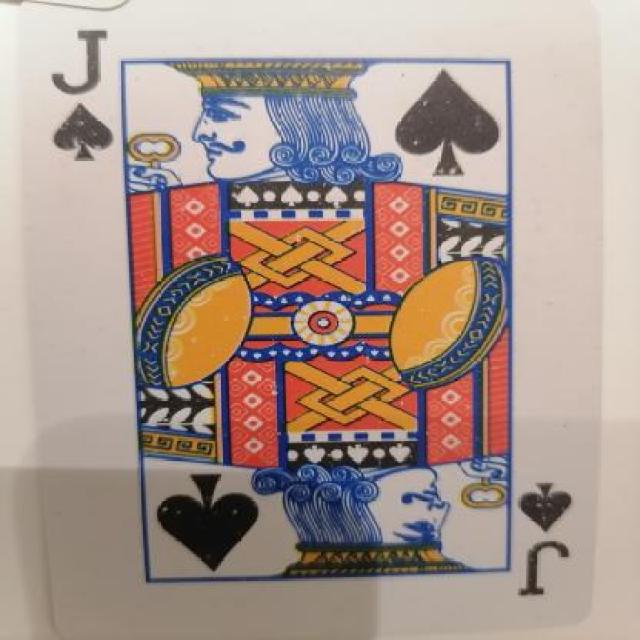JS: (492, 464, 596, 627), (43, 16, 134, 167)
